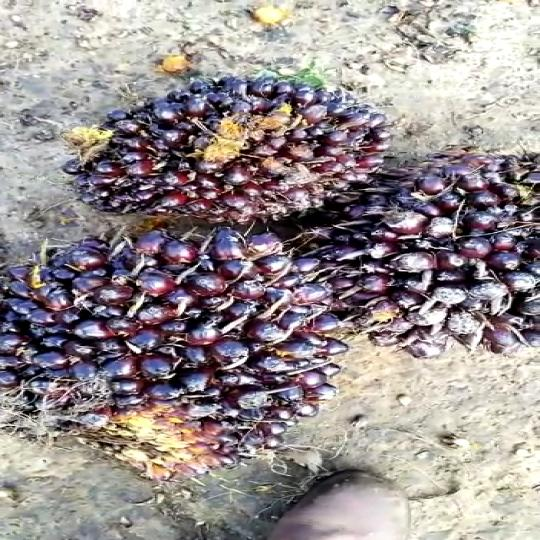kurang masak: (13, 223, 341, 458), (77, 80, 418, 263), (342, 144, 540, 365)
